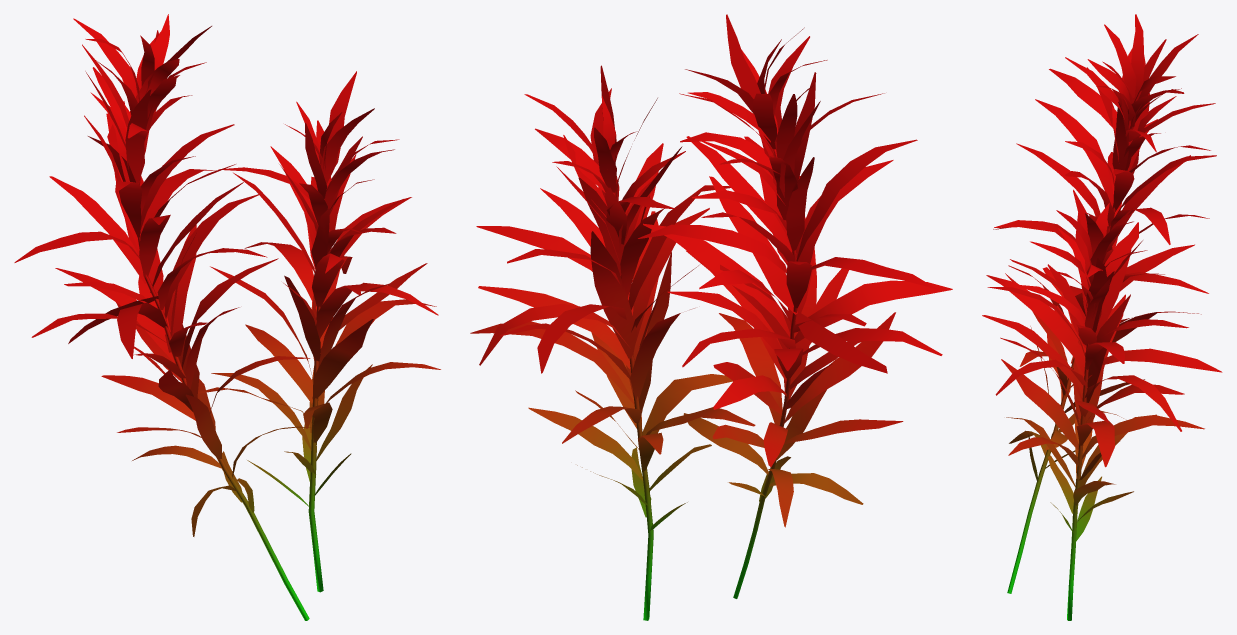
The model's file is Butterfly Weed_LOD2_Var9.fbx.
The picture shows the model from 3 angles, left to right: view 1: azimuth 30°, elevation 25°; view 2: azimuth 150°, elevation 25°; view 3: azimuth 270°, elevation 25°; orthographic projection. The views are drawn at different scales.
Visible parts, largest first — view 1: _pysk_Var9_LOD2; view 2: _pysk_Var9_LOD2; view 3: _pysk_Var9_LOD2.
Part boxes in pixels (x1,y1,x2,y2): _pysk_Var9_LOD2: [14, 14, 440, 620]; _pysk_Var9_LOD2: [470, 14, 952, 620]; _pysk_Var9_LOD2: [982, 14, 1222, 620].
Bounding box in the file's own units: 53.35 × 70.46 × 29.32.
